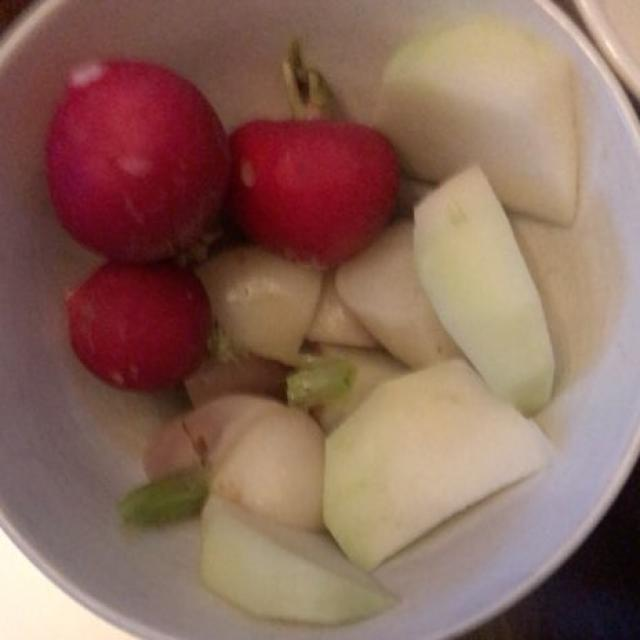kolhrabi: (222, 24, 543, 600)
radish: (65, 75, 412, 396)
salad: (172, 304, 316, 420)
